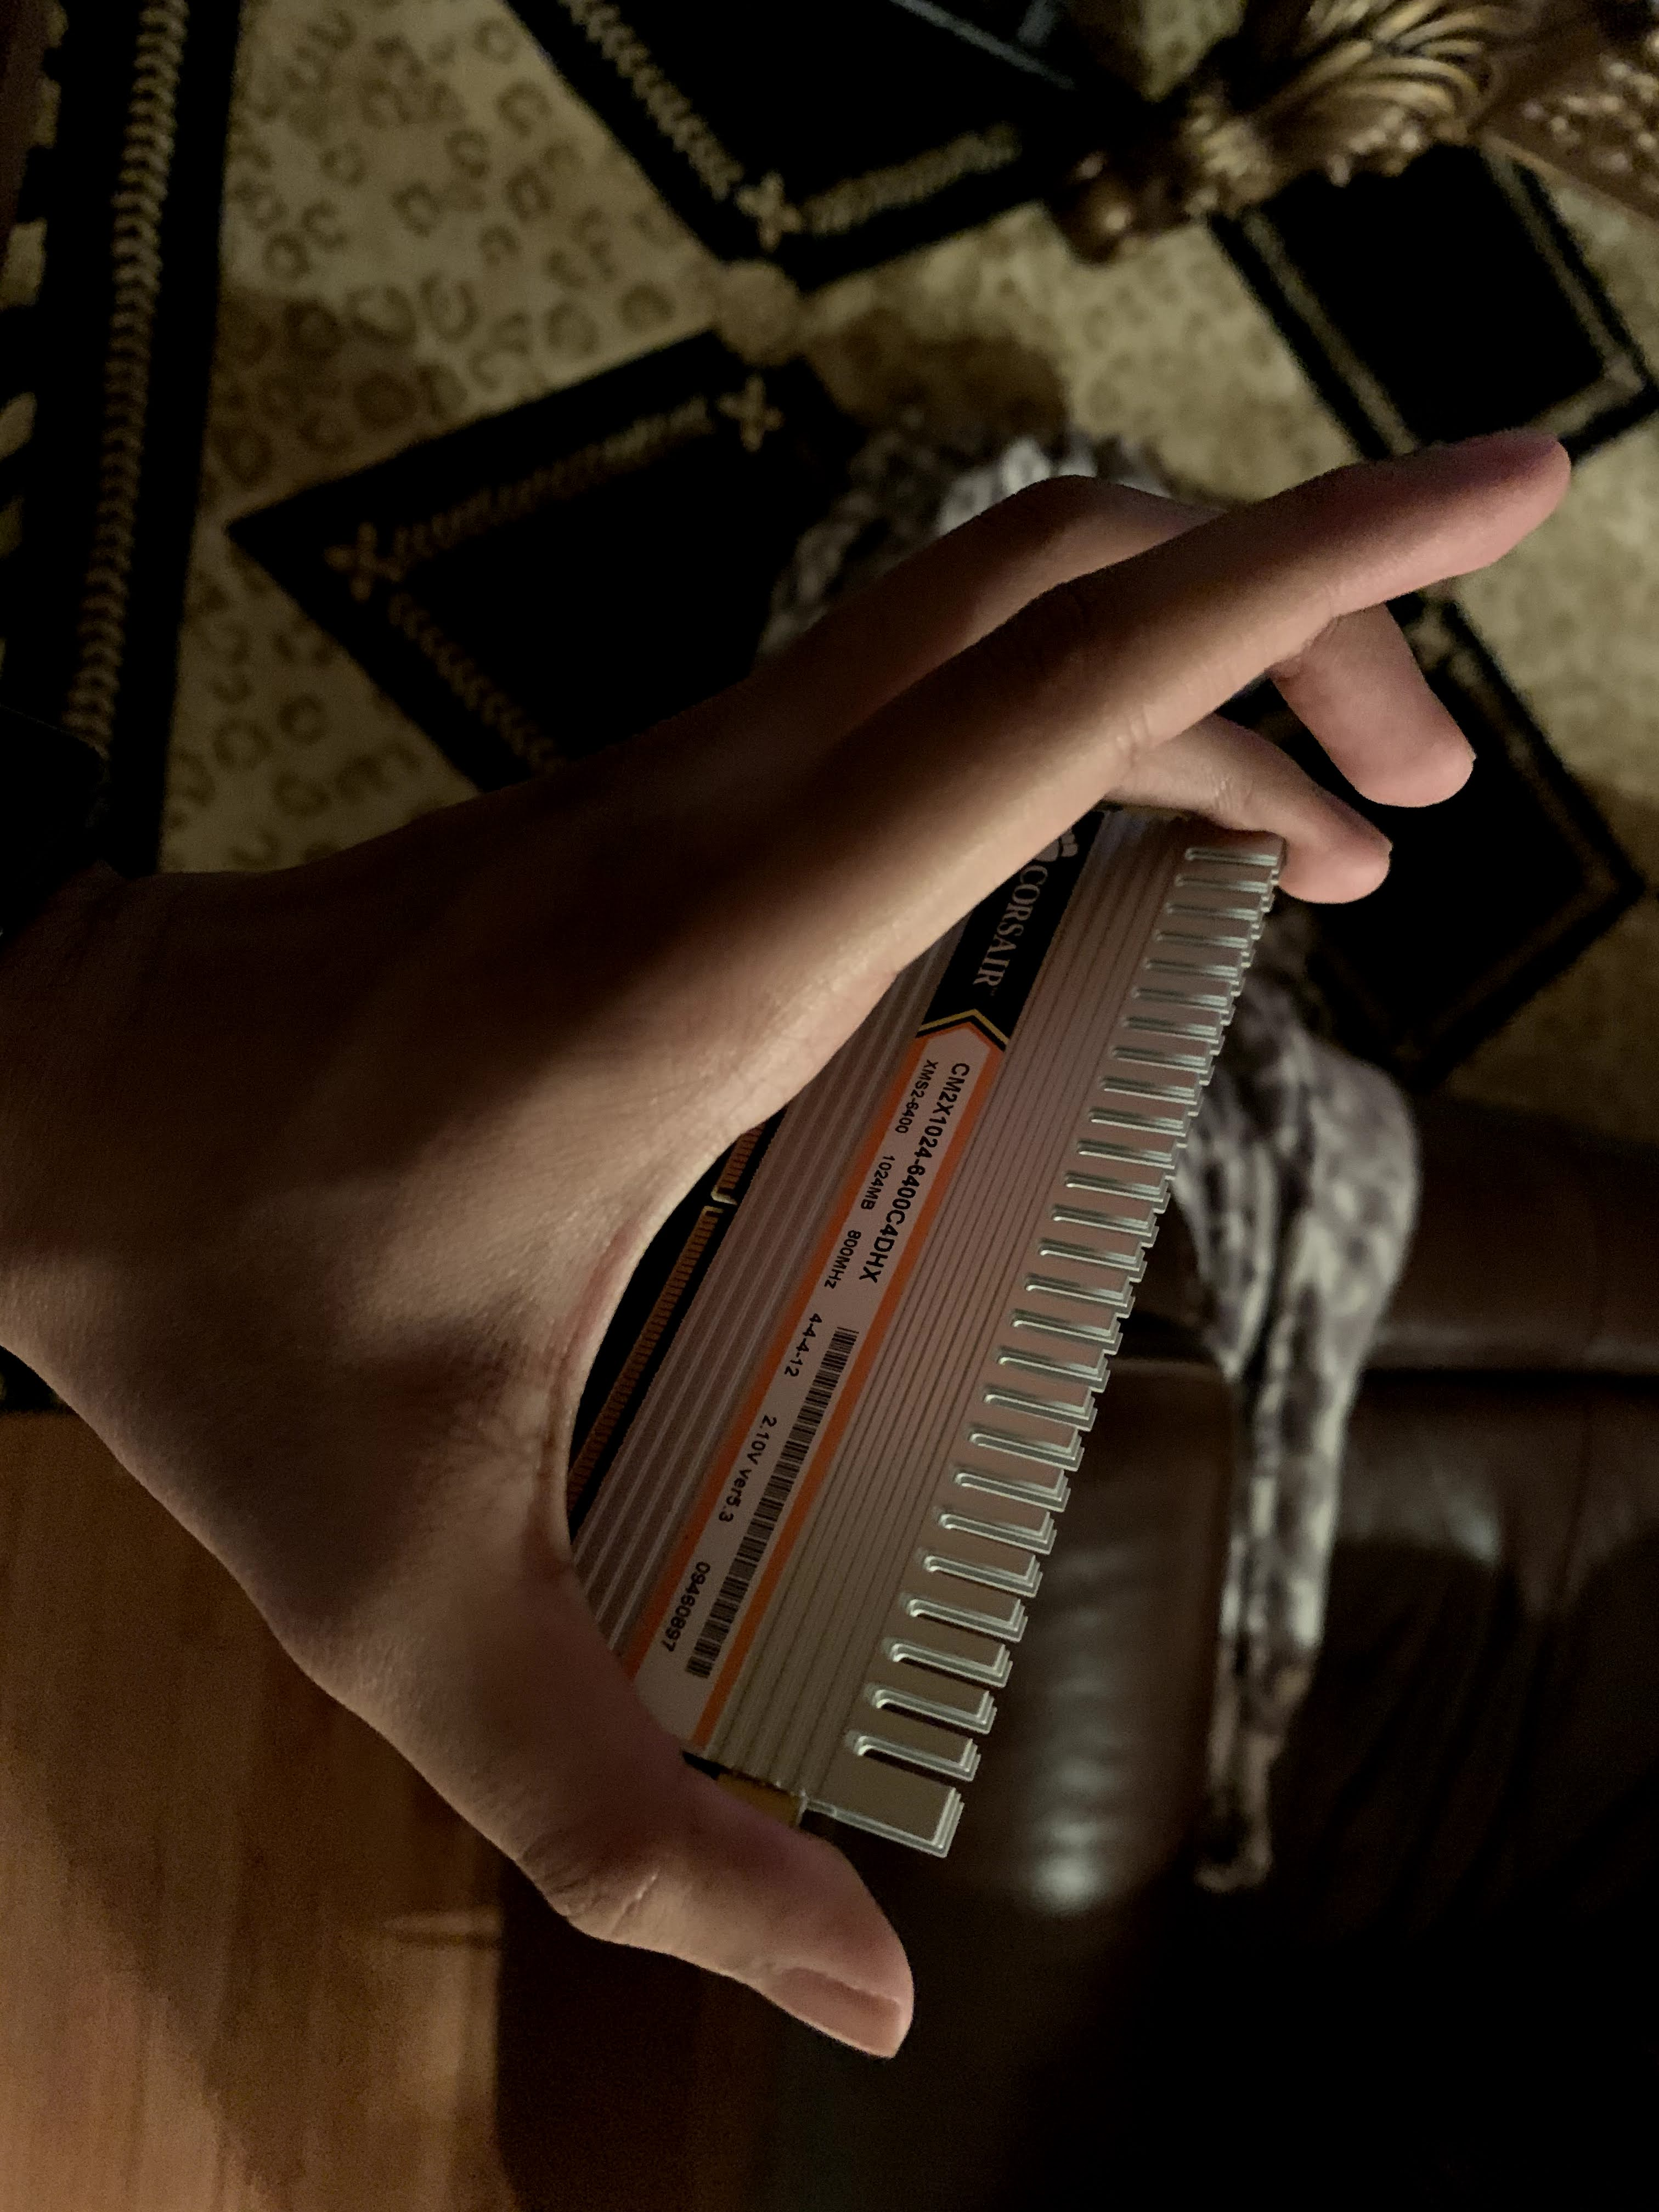Space-debris-medium: (554, 812, 1363, 1874)
